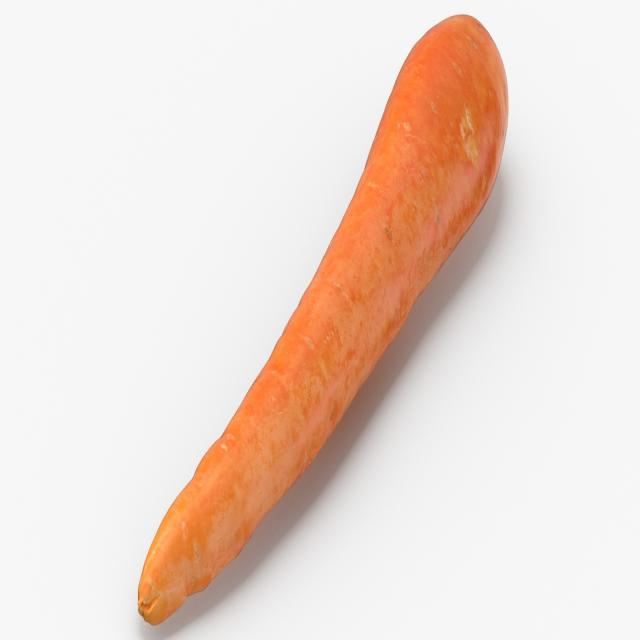Carrot: (135, 15, 513, 628)
